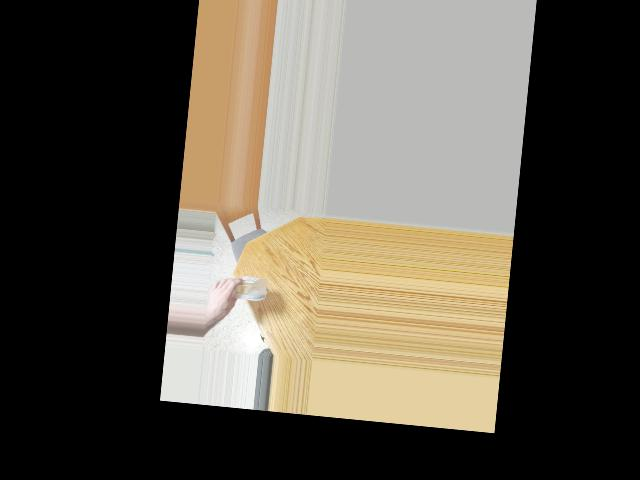cheese: (217, 266, 266, 309)
